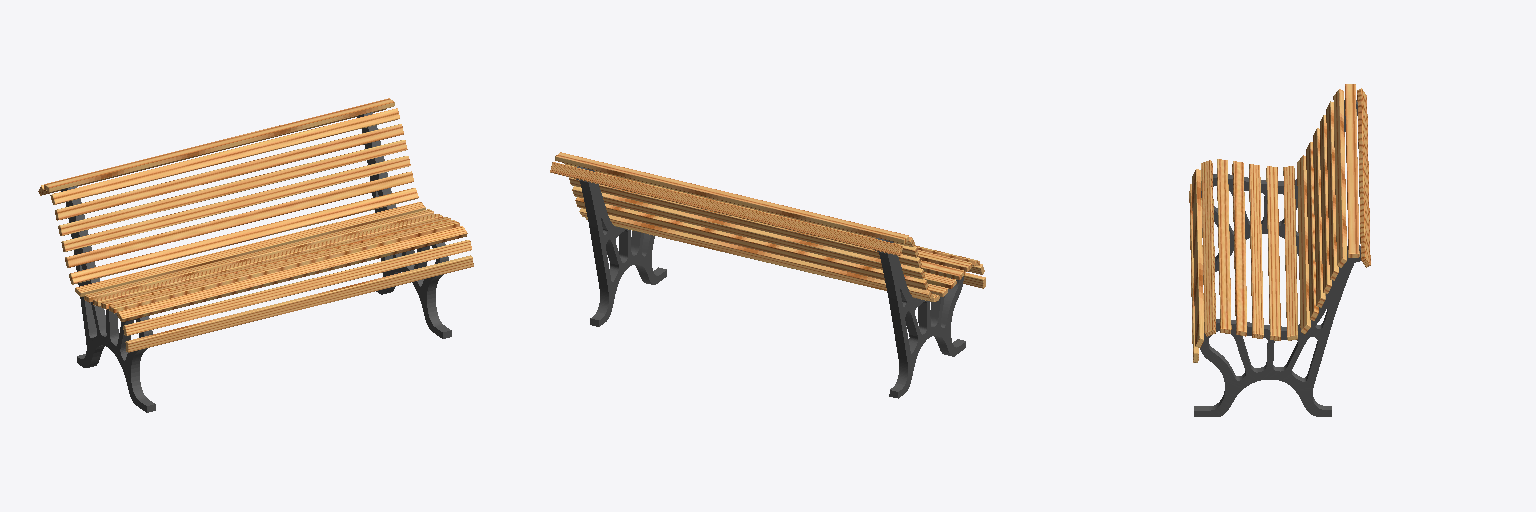
The picture shows the model from 3 angles: view 1: azimuth 30°, elevation 25°; view 2: azimuth 150°, elevation 25°; view 3: azimuth 270°, elevation 25°; orthographic projection.
Visible parts, largest first — view 1: ChamferBo2, ChamferBo7, ChamferBo4, ChamferB12, ChamferB10, ChamferB11, ChamferBo3, ChamferBo9, ChamferBo8, Shape02, ChamferB13, ChamferBo6 (+5 smaller); view 2: Shape02, Shape03, ChamferB14, ChamferB13, ChamferBo9, ChamferBo8, ChamferBo7, ChamferB10; view 3: Shape03, ChamferBo4, ChamferBo1, ChamferBo0, ChamferBo6, ChamferBox, ChamferBo5, ChamferB13, ChamferB12, ChamferB14, ChamferBo7, ChamferBo3 (+6 smaller).
Part boxes in pixels (bbox=[...]): ChamferBo2: bbox=[125, 255, 473, 352]; ChamferBo7: bbox=[69, 188, 418, 284]; ChamferBo4: bbox=[117, 226, 467, 321]; ChamferB12: bbox=[50, 108, 399, 204]; ChamferB10: bbox=[58, 140, 407, 235]; ChamferB11: bbox=[55, 124, 403, 220]; ChamferBo3: bbox=[123, 240, 471, 335]; ChamferBo9: bbox=[61, 156, 410, 251]; ChamferBo8: bbox=[65, 171, 413, 267]; Shape02: bbox=[61, 186, 155, 412]; ChamferB13: bbox=[44, 98, 394, 191]; ChamferBo6: bbox=[75, 202, 425, 296]; Shape02: bbox=[875, 238, 965, 398]; Shape03: bbox=[576, 166, 666, 326]; ChamferB14: bbox=[550, 162, 902, 255]; ChamferB13: bbox=[555, 152, 908, 243]; ChamferBo9: bbox=[572, 186, 924, 279]; ChamferBo8: bbox=[575, 197, 928, 289]; ChamferBo7: bbox=[579, 208, 932, 299]; ChamferB10: bbox=[569, 177, 921, 267]; Shape03: bbox=[1194, 245, 1360, 416]; ChamferBo4: bbox=[1201, 160, 1215, 336]; ChamferBo1: bbox=[1232, 161, 1246, 336]; ChamferBo0: bbox=[1249, 164, 1263, 338]; ChamferBo6: bbox=[1283, 166, 1297, 340]; ChamferBox: bbox=[1266, 166, 1280, 340]; ChamferBo5: bbox=[1217, 159, 1231, 333]; ChamferB13: bbox=[1345, 84, 1359, 257]; ChamferB12: bbox=[1333, 89, 1346, 267]; ChamferB14: bbox=[1357, 88, 1370, 267]; ChamferBo7: bbox=[1297, 155, 1310, 334]; ChamferBo3: bbox=[1192, 169, 1203, 347].
Bounding box in the file's own units: 6.11 × 2.91 × 2.75.
Materials: 18 (2 with a texture image).